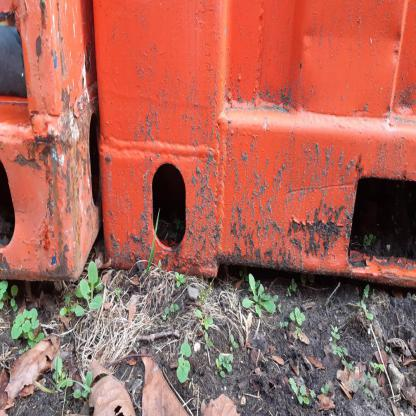CornerCasting: (96, 130, 220, 277), (1, 100, 108, 268)
